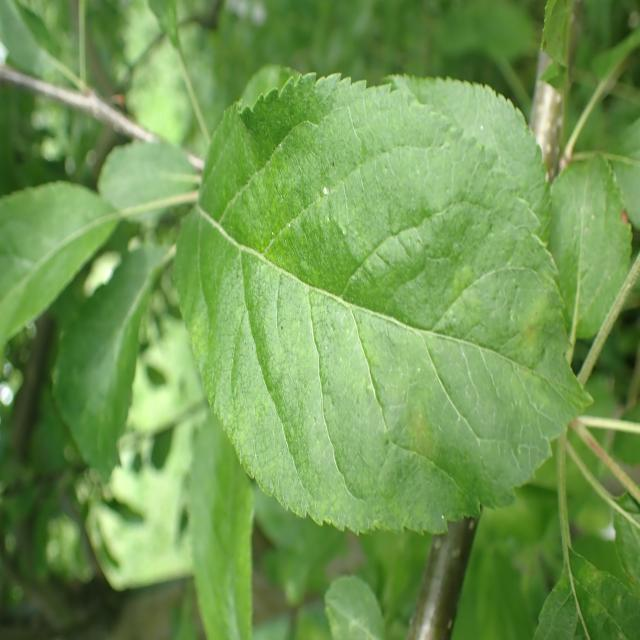scab: (187, 110, 554, 526)
